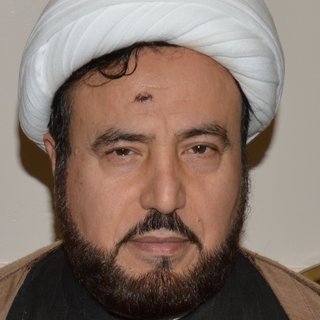eye: (178, 140, 221, 158), (101, 143, 143, 160)
